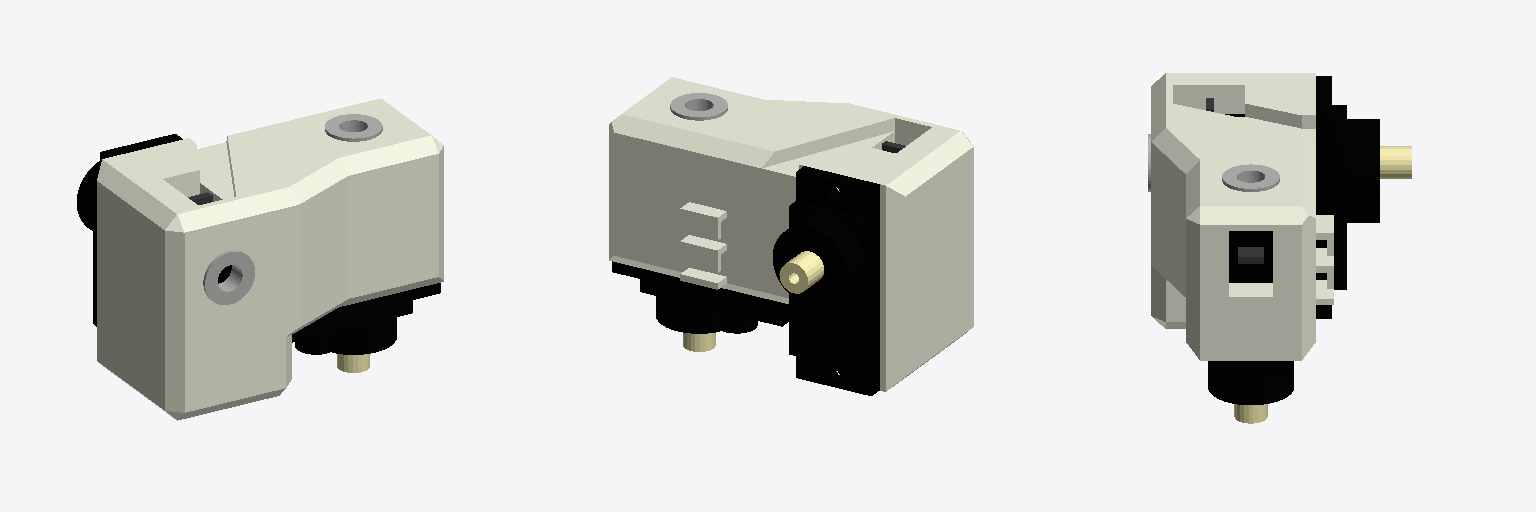
File: knuckle.obj
3 views of the same model, side by side, from view 1: azimuth 30°, elevation 25°; view 2: azimuth 150°, elevation 25°; view 3: azimuth 270°, elevation 25° (orthographic).
Visible parts, largest first — view 1: Solid1, Solid1:1, Solid1:2, Solid1:3, Solid1:4; view 2: Solid1, Solid1:2, Solid1:1, Solid1:4; view 3: Solid1, Solid1:2, Solid1:1, Solid1:4.
Boxes of the visible parts, <box> form: Solid1: <box>97,98,443,420</box>; Solid1:1: <box>292,283,440,372</box>; Solid1:2: <box>77,134,231,326</box>; Solid1:3: <box>203,250,254,304</box>; Solid1:4: <box>325,114,382,141</box>; Solid1: <box>609,77,973,391</box>; Solid1:2: <box>773,141,905,395</box>; Solid1:1: <box>612,261,788,351</box>; Solid1:4: <box>670,93,727,120</box>; Solid1: <box>1151,73,1333,360</box>; Solid1:2: <box>1206,76,1411,318</box>; Solid1:1: <box>1208,231,1293,423</box>; Solid1:4: <box>1222,164,1279,191</box>.
Size of the model in its own units: 47.38 by 36.6 by 36.6.